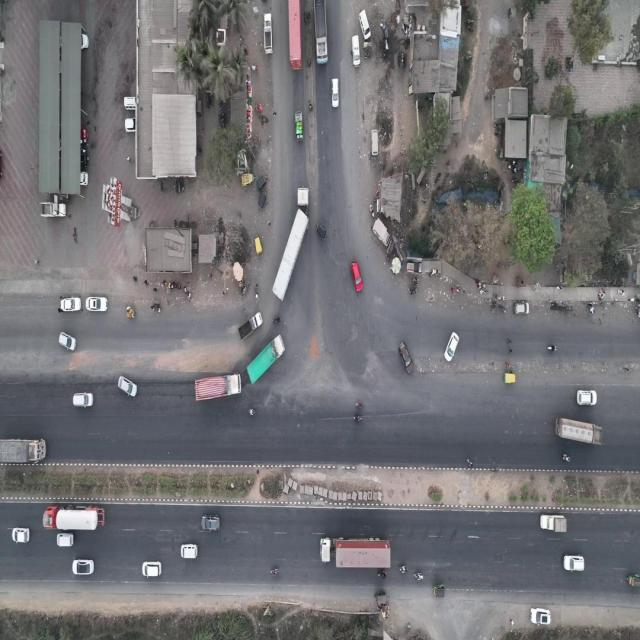3W: (314, 220, 327, 240), (257, 188, 267, 213), (253, 236, 264, 258), (431, 584, 446, 600), (240, 172, 256, 186), (625, 574, 640, 588), (503, 371, 516, 385), (256, 172, 265, 191), (375, 591, 387, 605)
Cars: (348, 263, 368, 295), (396, 342, 414, 377), (529, 603, 552, 628), (562, 551, 585, 574), (443, 333, 461, 362), (58, 330, 79, 354), (119, 374, 138, 400), (70, 558, 95, 576), (575, 388, 597, 408), (357, 12, 372, 40), (200, 514, 220, 534), (72, 389, 93, 408), (350, 34, 361, 70), (141, 560, 162, 578), (61, 296, 82, 314), (85, 297, 108, 313), (511, 302, 532, 318), (12, 526, 30, 544), (370, 129, 380, 157), (331, 77, 340, 108), (181, 544, 198, 560), (57, 532, 73, 548)
LCV: (233, 310, 264, 342), (262, 10, 274, 55), (540, 514, 568, 532), (40, 202, 67, 218), (293, 112, 305, 140)
M2W: (546, 343, 558, 353), (247, 406, 257, 418), (151, 302, 161, 314), (369, 205, 376, 221), (413, 571, 424, 581), (377, 570, 387, 580), (353, 413, 363, 422), (562, 453, 572, 462), (500, 304, 507, 315), (587, 306, 596, 314), (398, 566, 408, 573), (467, 459, 472, 468), (271, 569, 278, 575), (356, 401, 362, 407)
MAV: (270, 183, 314, 304), (320, 535, 392, 570), (42, 506, 106, 531), (313, 0, 332, 64), (287, 0, 301, 71)
Truck: (246, 330, 286, 388), (556, 414, 604, 450), (1, 434, 45, 466), (193, 374, 243, 401)
